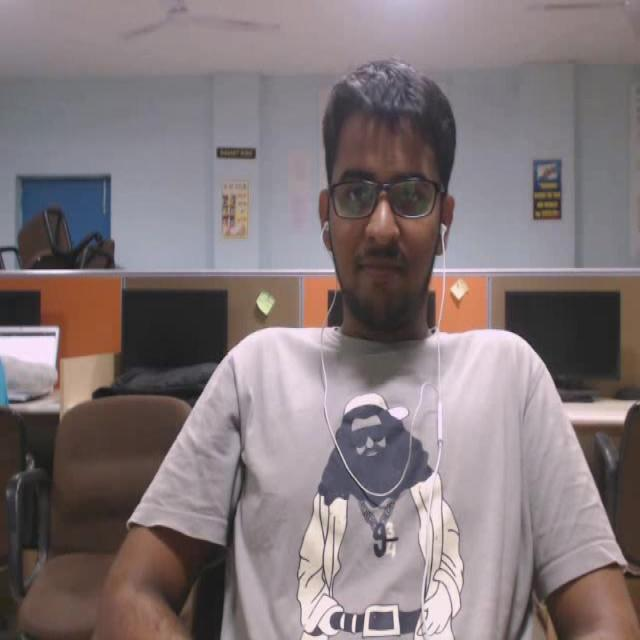Engaged: (276, 41, 509, 362)
